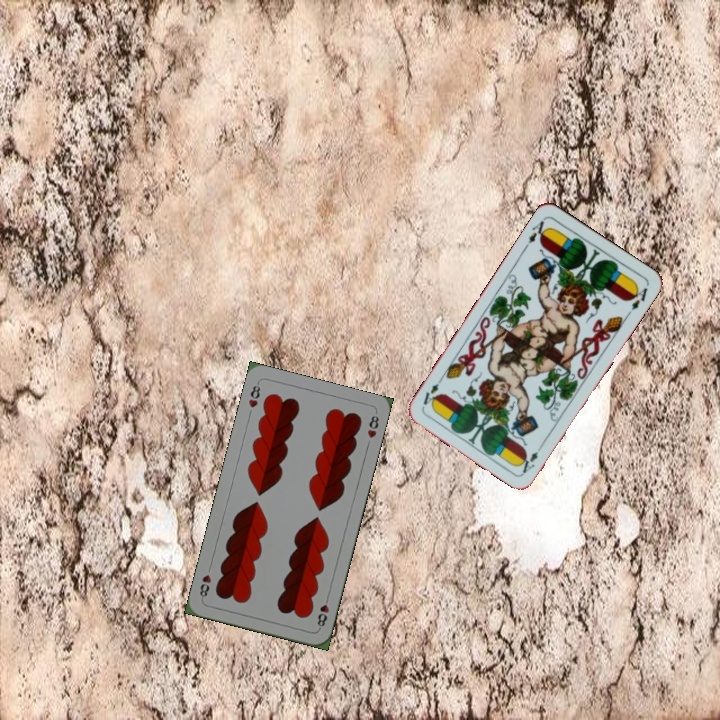EA: (520, 215, 551, 251), (517, 439, 546, 476)
H8: (313, 592, 332, 632), (244, 378, 263, 410)
